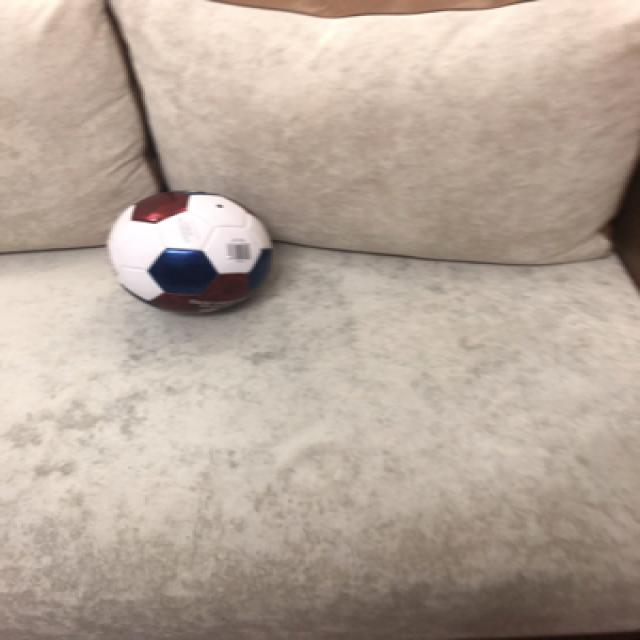soccer_ball: (104, 187, 271, 312)
